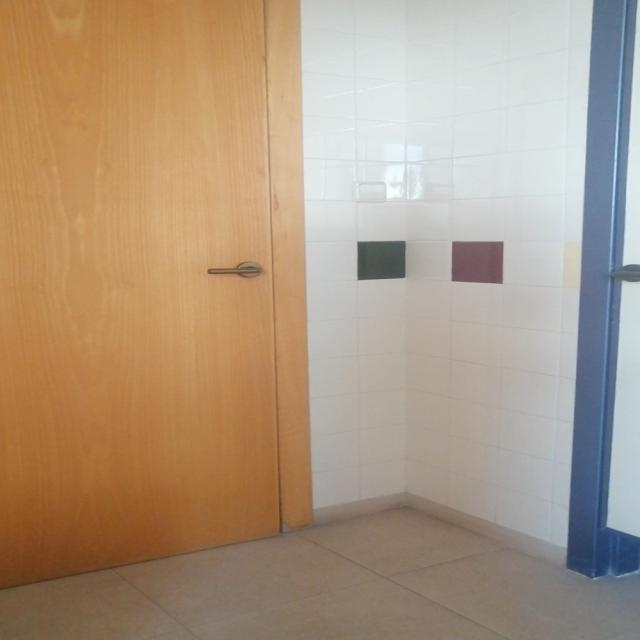door_handle: (206, 266, 265, 276)
